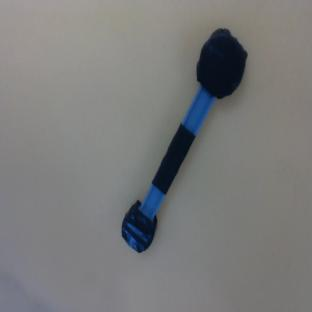part_3_bad: (100, 23, 259, 255)
